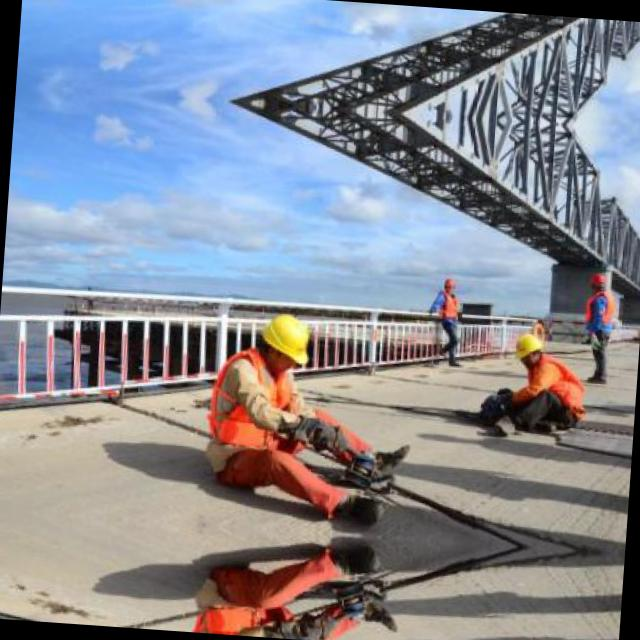helmet: (252, 302, 314, 376), (508, 329, 548, 371), (583, 267, 606, 294), (439, 272, 459, 298)
